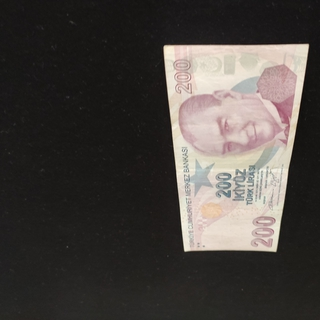200TLFront: (162, 43, 310, 252)
